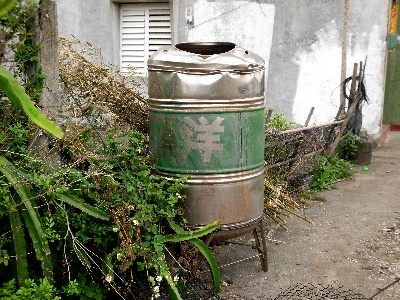water_tower: (146, 39, 272, 278)
